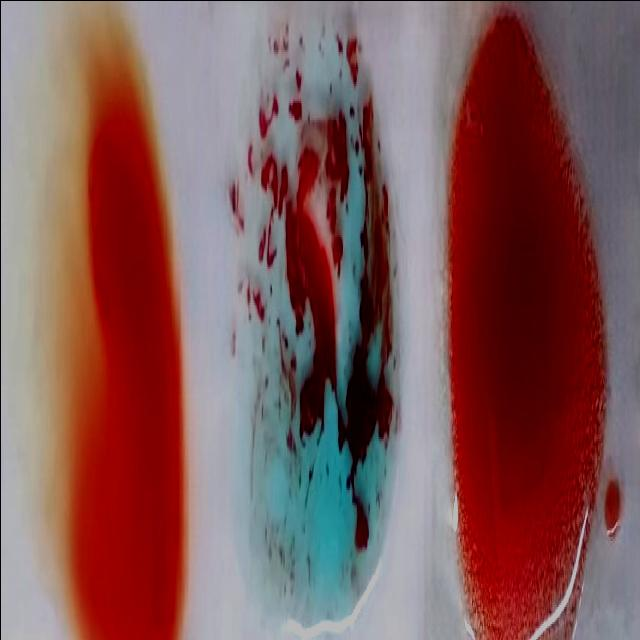A: (235, 22, 399, 637)
D: (449, 5, 604, 640)
